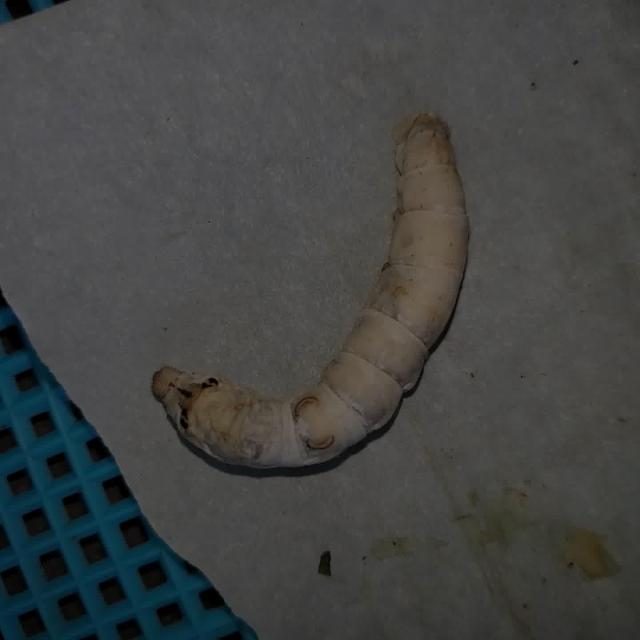Grasserie: (124, 97, 514, 482)
